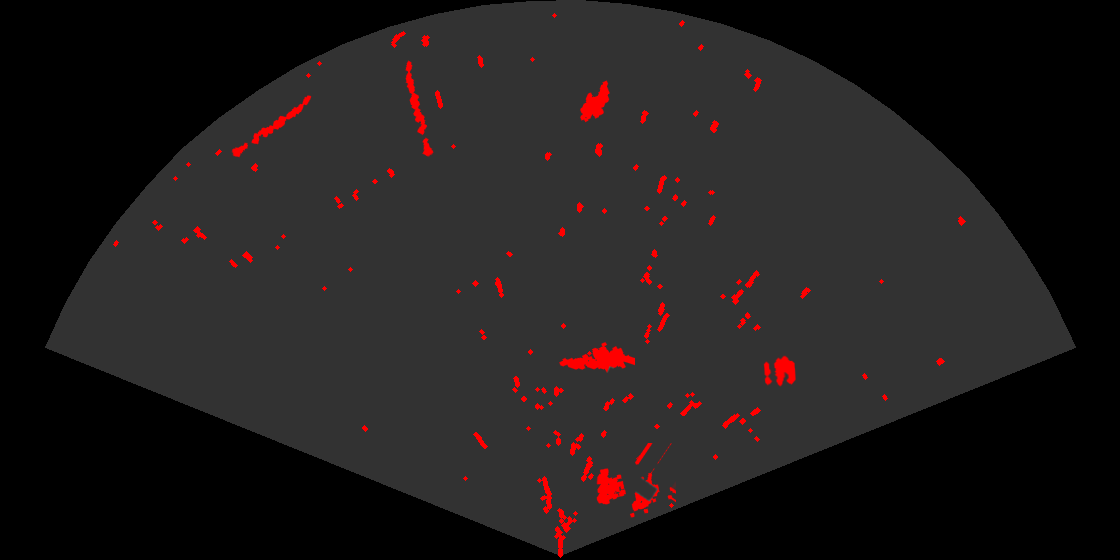AUV: (578, 79, 611, 124)
ball: (762, 354, 797, 388)
cage: (595, 443, 676, 519)
chain: (230, 94, 313, 159), (404, 59, 435, 159)
frogman: (558, 341, 635, 374)
